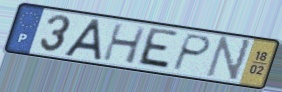3: (37, 13, 72, 54)
A: (61, 18, 104, 63)
E: (134, 26, 181, 72)
H: (100, 21, 148, 66)
N: (203, 35, 254, 84)
P: (169, 32, 214, 73)
